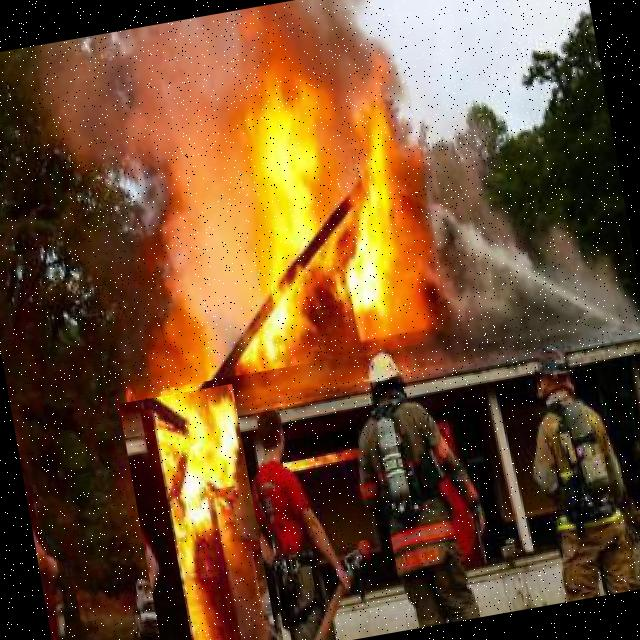fire: (111, 2, 452, 387), (118, 383, 279, 640)
